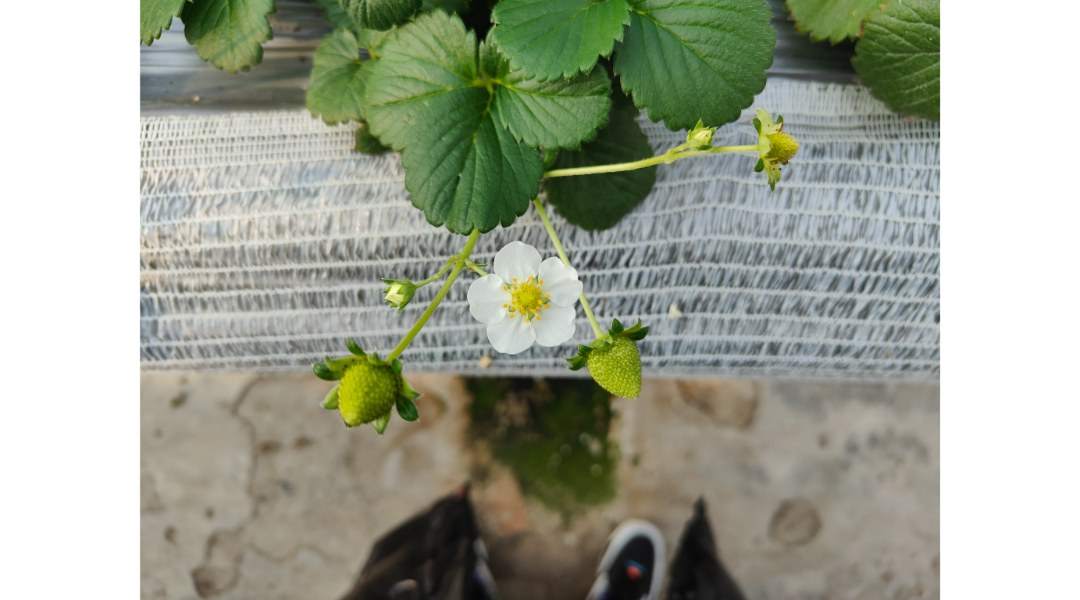berry: (319, 344, 432, 433), (575, 311, 650, 420), (749, 103, 801, 187), (384, 262, 418, 314), (685, 118, 724, 148)
flower: (469, 238, 581, 355)
strain: (535, 214, 606, 330), (404, 270, 456, 342), (535, 160, 680, 172)
